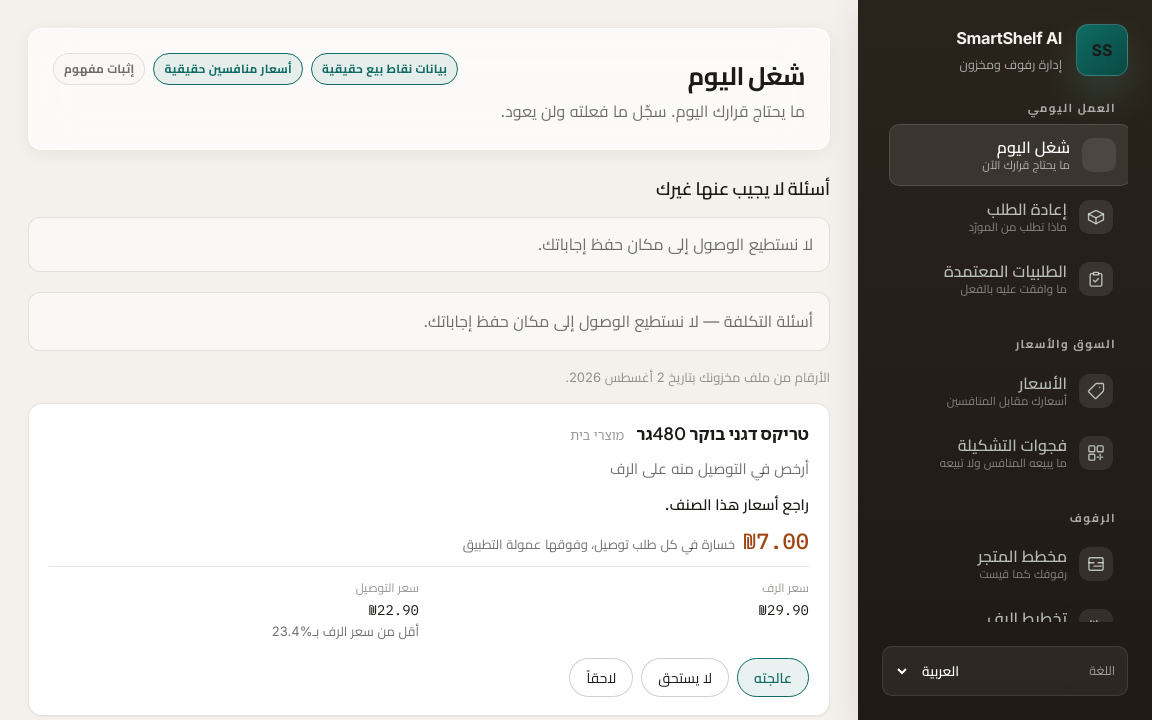
Test: recording an outcome on Today › writes the signal family and removes the entry (ADR-016, AC-105)
The image size is (1152, 720).
Expected: the element with class "entry-card" is shown, [28, 403, 830, 716]
Click the button "عالجته" at (773, 677), box [737, 658, 809, 697]
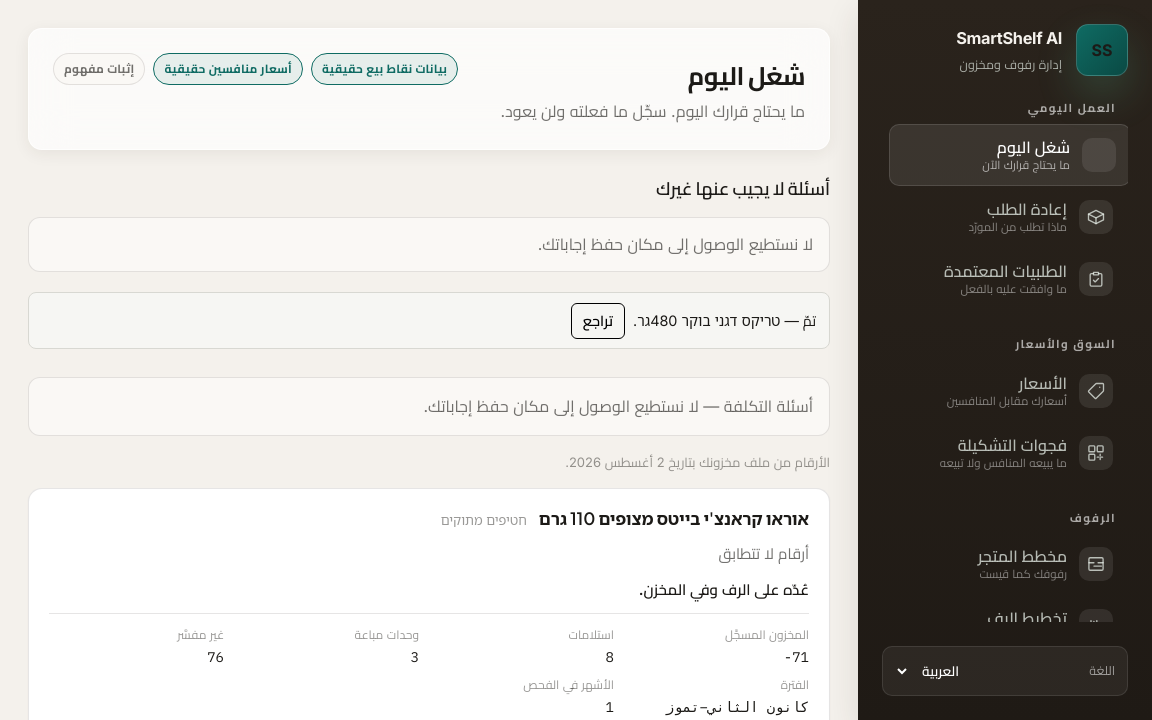
Now the number of elements with class "entry-card" is 3
